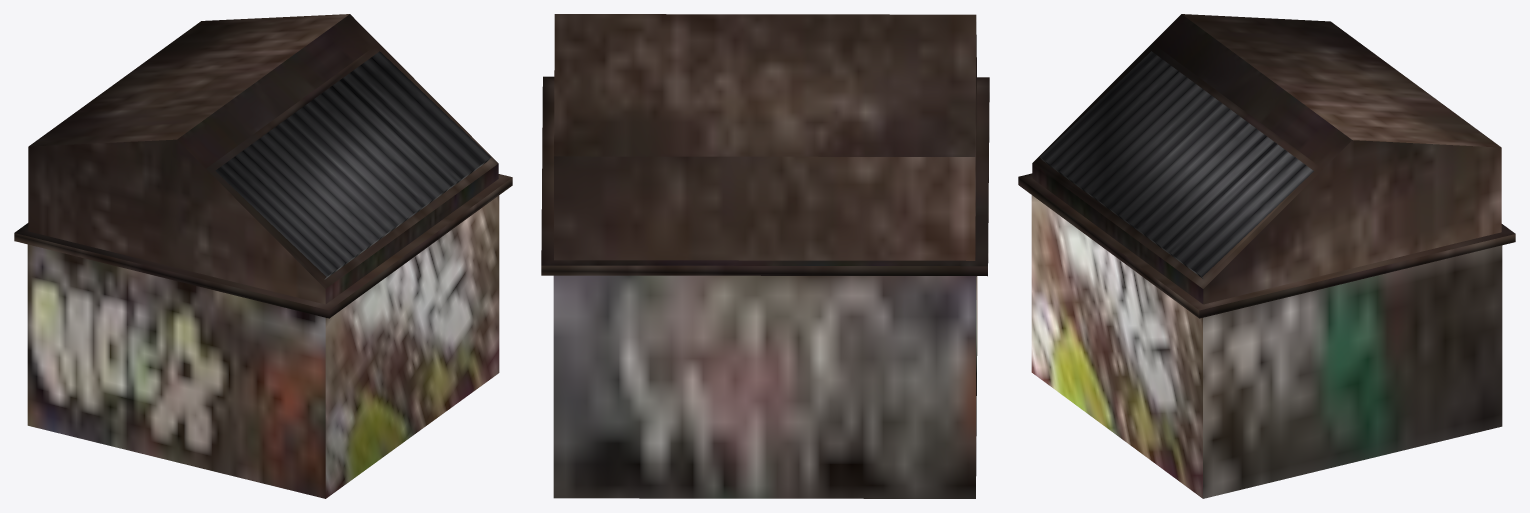
Rendered from dumpster_380a.glb.
3 views of the same model, side by side, from view 1: azimuth 30°, elevation 25°; view 2: azimuth 150°, elevation 25°; view 3: azimuth 270°, elevation 25° (orthographic). The views are drawn at different scales.
Parts seen in each view (by area): view 1: dumpster_380a; view 2: dumpster_380a; view 3: dumpster_380a.
Part boxes in pixels (left/top/right/bottom): dumpster_380a: left=14, top=14, right=512, bottom=498; dumpster_380a: left=541, top=14, right=989, bottom=498; dumpster_380a: left=1018, top=14, right=1515, bottom=498.
Size of the model in its own units: 1.75 by 1.25 by 1.75.
Materials: 1 (1 with a texture image).
